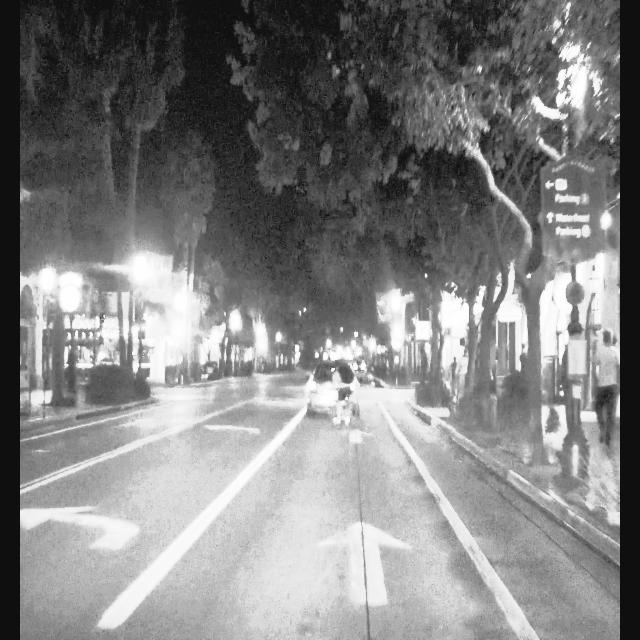Sign: (540, 154, 606, 266)
Tree: (498, 0, 563, 473)
